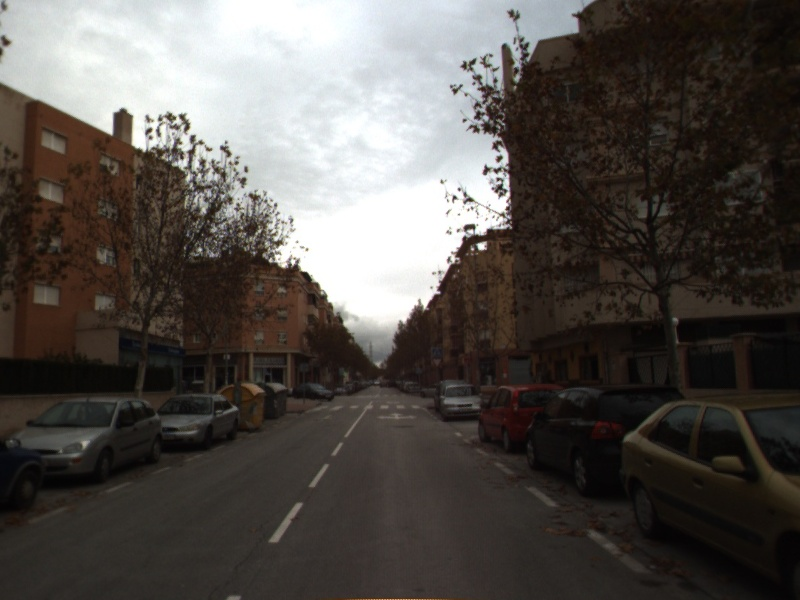STRAIGHT_LEFT_RIGHT: (375, 410, 419, 423)
